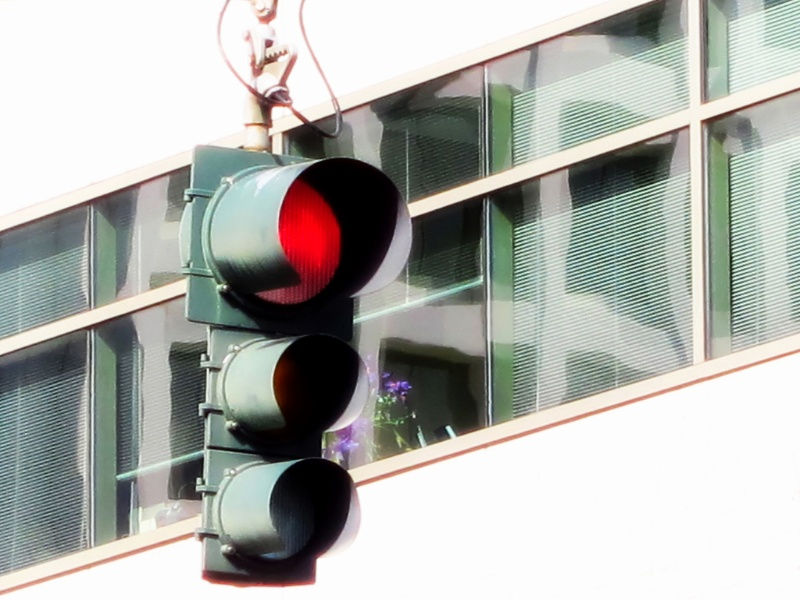red_light: (197, 146, 434, 328)
